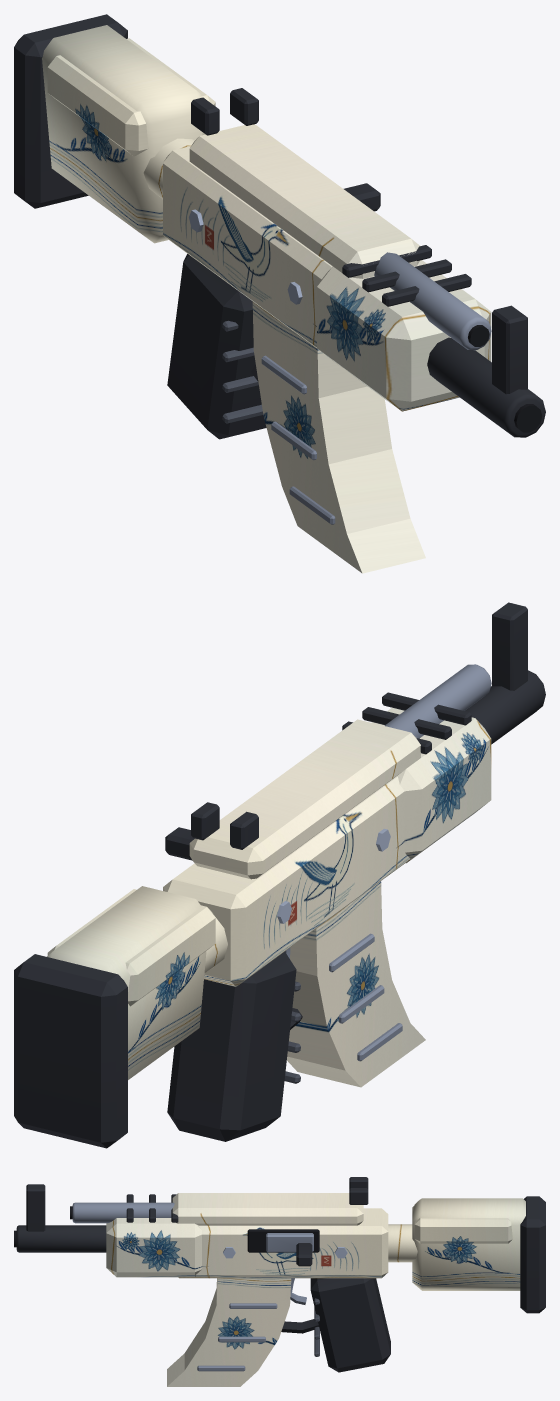
Rendered from AK_PorcelainHeron.glb.
The picture shows the model from 3 angles, top to bottom: view 1: azimuth 30°, elevation 25°; view 2: azimuth 150°, elevation 25°; view 3: azimuth 270°, elevation 25°; orthographic projection. The views are drawn at different scales.
Parts seen in each view (by area): view 1: Main, Stock, Magazine; view 2: Main, Stock, Magazine, Bolt; view 3: Main, Stock, Magazine, Bolt.
Boxes of the visible parts, <box> form: Main: <box>163,88,545,439</box>; Stock: <box>14,14,215,243</box>; Magazine: <box>252,301,425,573</box>; Main: <box>163,602,545,1141</box>; Stock: <box>14,886,227,1148</box>; Magazine: <box>287,881,425,1087</box>; Bolt: <box>165,827,194,860</box>; Main: <box>14,1177,390,1372</box>; Stock: <box>388,1196,545,1313</box>; Magazine: <box>167,1278,291,1386</box>; Bolt: <box>266,1233,313,1266</box>.
Bounding box in the file's own units: 0.635 × 1.34 × 3.33.
2 materials, 1 textured.
